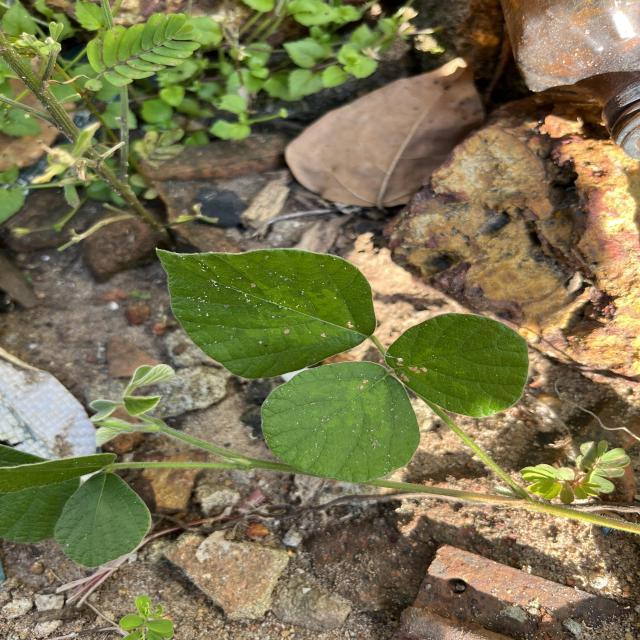Pseudarthria viscida: (150, 242, 530, 486)
